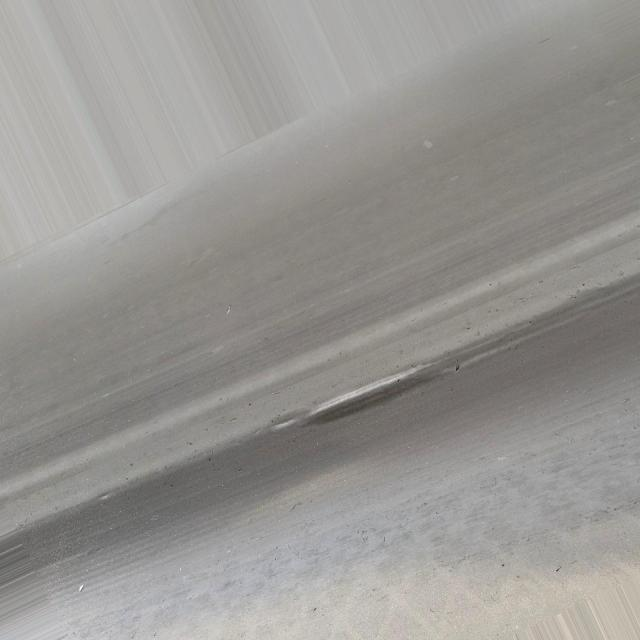Impact Damage: (276, 352, 436, 431)
